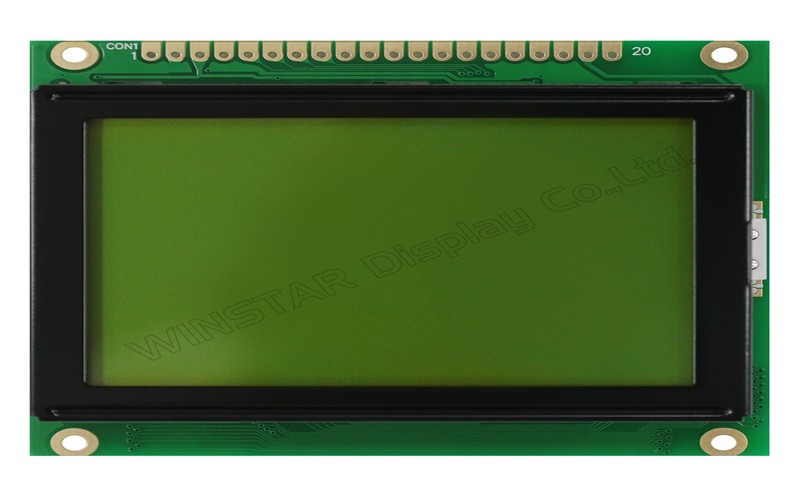LCD: (32, 79, 753, 428)
